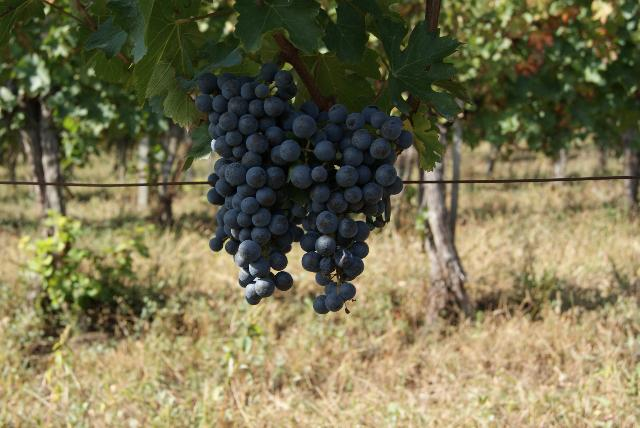grapes: (195, 72, 312, 305), (292, 104, 411, 314)
